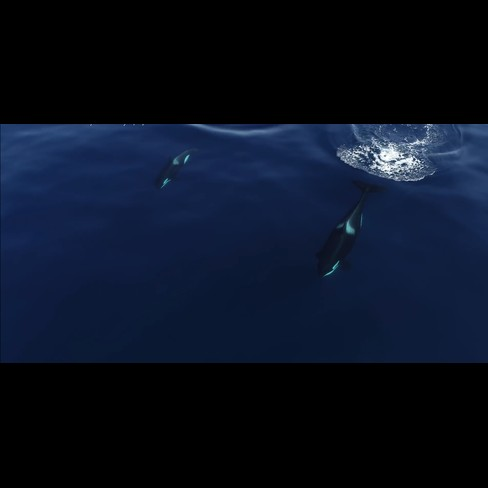orca: (307, 173, 386, 287), (139, 145, 201, 192)
